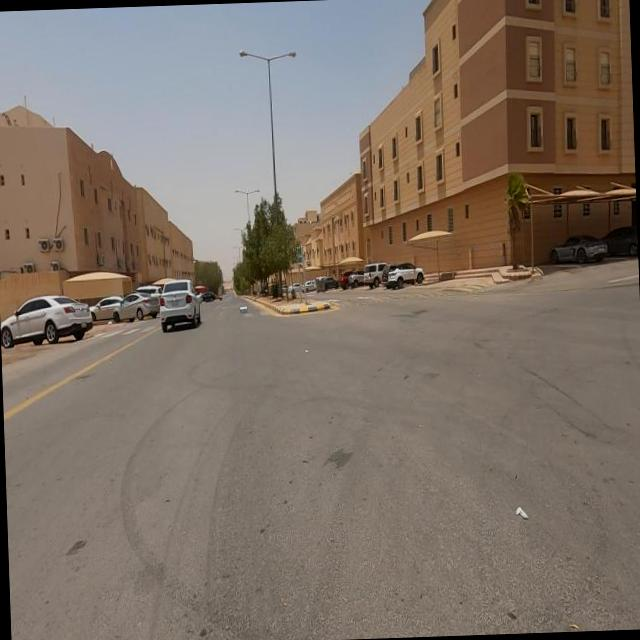debris: (498, 477, 554, 542), (228, 294, 266, 334)
